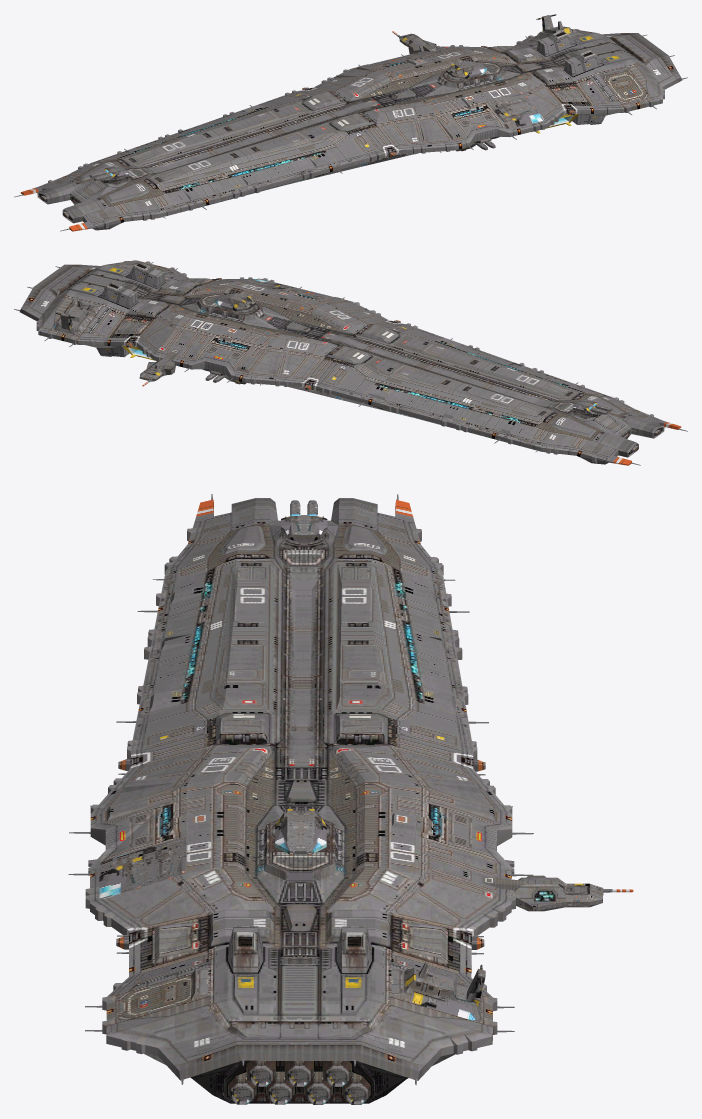
The model's file is battlecruiser.FBX.
The picture shows the model from 3 angles, top to bottom: view 1: azimuth 30°, elevation 25°; view 2: azimuth 150°, elevation 25°; view 3: azimuth 270°, elevation 25°; orthographic projection. The views are drawn at different scales.
Parts seen in each view (by area): view 1: S_hgn_battlecruiser-Hgn_BattleCruiser_Main_EXPORT, S_hgn_battlecruiser-Hgn_BattleCruiser_Badge_EXPORT, S_ion_turret_1, S_gun_turret_3, S_hgn_battlecruiser-Hgn_C_Module_FireControl_EXPORT; view 2: S_hgn_battlecruiser-Hgn_BattleCruiser_Main_EXPORT, S_hgn_battlecruiser-Hgn_C_Module_FireControl_EXPORT, S_ion_turret_1, S_gun_turret_3, S_hgn_battlecruiser-Hgn_BattleCruiser_Engine_EXPORT; view 3: S_hgn_battlecruiser-Hgn_BattleCruiser_Main_EXPORT, S_hgn_battlecruiser-Hgn_BattleCruiser_Badge_EXPORT, S_hgn_battlecruiser-Hgn_BattleCruiser_Thruster_EXPORT, S_hgn_battlecruiser-Hgn_C_Module_FireControl_EXPORT, S_ion_turret_1, S_gun_turret_3, S_hgn_battlecruiser-Hgn_BattleCruiser_Engine_EXPORT.
Boxes of the visible parts, x1,y1,x2,y2 form: S_hgn_battlecruiser-Hgn_BattleCruiser_Main_EXPORT: (14,29,687,231); S_hgn_battlecruiser-Hgn_BattleCruiser_Badge_EXPORT: (486,91,544,129); S_ion_turret_1: (446,60,487,78); S_gun_turret_3: (89,166,128,183); S_hgn_battlecruiser-Hgn_C_Module_FireControl_EXPORT: (535,14,576,39); S_hgn_battlecruiser-Hgn_BattleCruiser_Main_EXPORT: (14,260,687,465); S_hgn_battlecruiser-Hgn_C_Module_FireControl_EXPORT: (53,299,97,334); S_ion_turret_1: (214,293,255,311); S_gun_turret_3: (573,400,612,417); S_hgn_battlecruiser-Hgn_BattleCruiser_Engine_EXPORT: (139,360,175,381); S_hgn_battlecruiser-Hgn_BattleCruiser_Main_EXPORT: (68,494,633,1103); S_hgn_battlecruiser-Hgn_BattleCruiser_Badge_EXPORT: (99,836,186,900); S_hgn_battlecruiser-Hgn_BattleCruiser_Thruster_EXPORT: (230,1065,368,1104); S_hgn_battlecruiser-Hgn_C_Module_FireControl_EXPORT: (404,962,485,1020); S_ion_turret_1: (275,809,326,854); S_gun_turret_3: (281,500,327,542); S_hgn_battlecruiser-Hgn_BattleCruiser_Engine_EXPORT: (511,878,603,910).
Bounding box in the file's own units: 10260 × 1299 × 4029.
